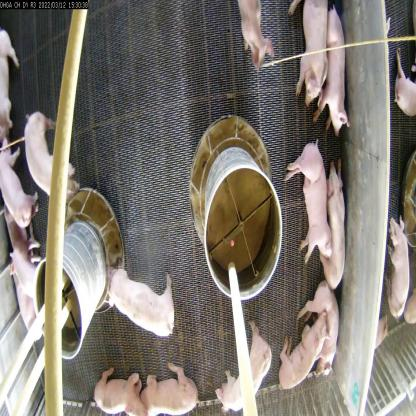Pig: (106, 258, 190, 341), (286, 134, 332, 260), (22, 105, 77, 208), (296, 284, 347, 376), (219, 322, 271, 410), (287, 0, 327, 108), (317, 5, 348, 135), (136, 355, 201, 415), (319, 154, 347, 293), (276, 310, 326, 386), (0, 140, 33, 240), (0, 21, 26, 145), (237, 0, 274, 80), (7, 258, 40, 346), (9, 228, 47, 298), (93, 373, 143, 415)
